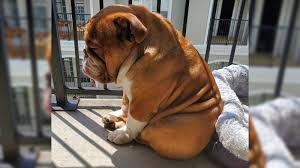Bulldog: (62, 2, 234, 160)
